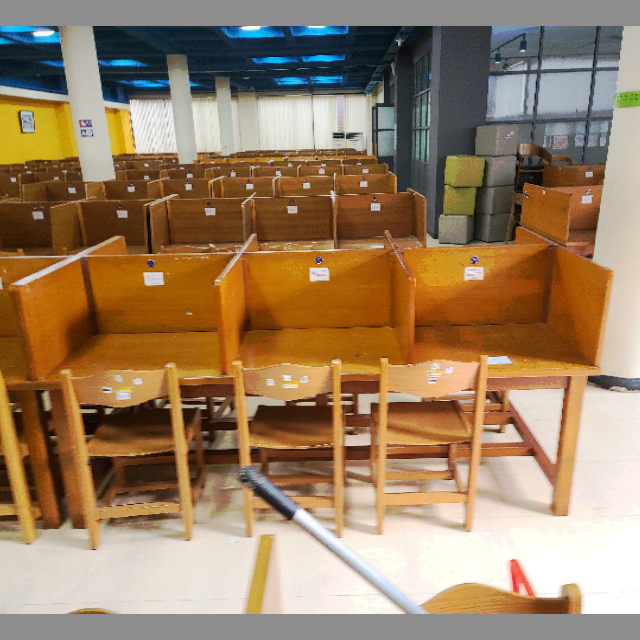empty: (23, 239, 223, 450), (228, 237, 414, 440), (419, 233, 604, 435)
